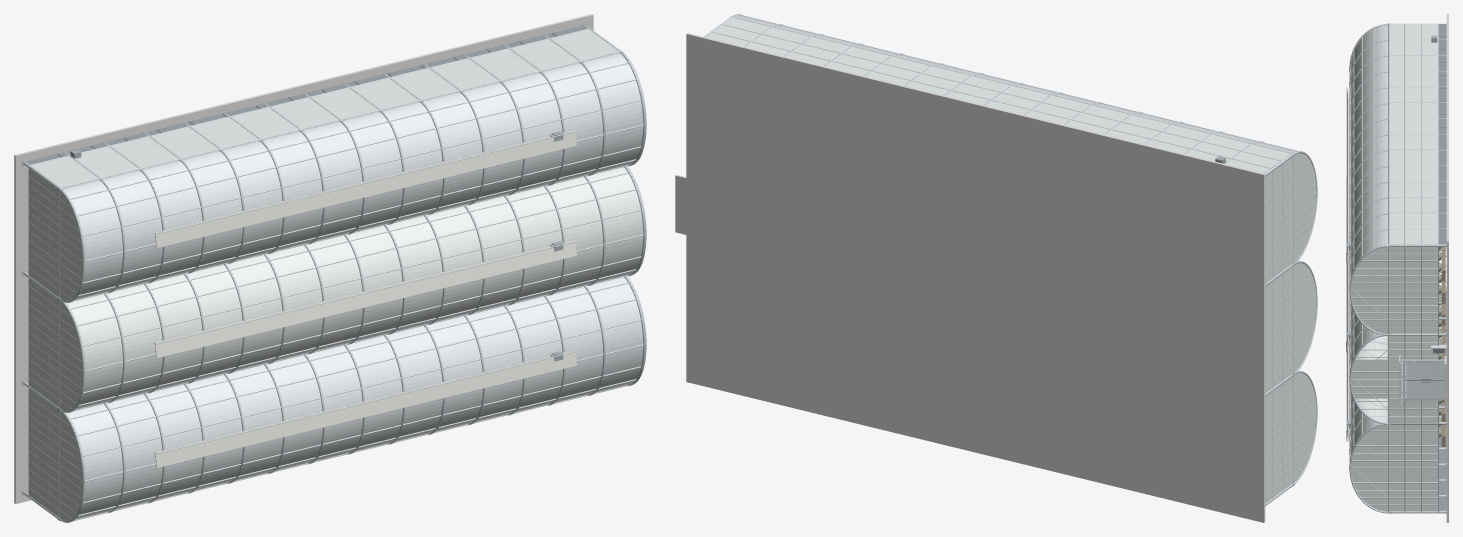
The model's file is greenhouse_shell_v9_1.glb.
3 views of the same model, side by side, from view 1: azimuth 30°, elevation 25°; view 2: azimuth 150°, elevation 25°; view 3: azimuth 270°, elevation 25° (orthographic). The views are drawn at different scales.
Visible parts, largest first — view 1: Roof_System/RoofPanel_Bay03_Continuous, Roof_System/RoofPanel_Bay01_Continuous, Roof_System/RoofPanel_Bay02_Continuous, Wall_System/SideWall_Far_PC, Foundation/Foundation_Slab, Roof_System/RoofVent_02_Panel, Roof_System/RoofVent_03_Panel, Roof_System/RoofVent_01_Panel, Wall_System/RearWall_Bay03_Continuous, Wall_System/RearWall_Bay01_Continuous, Wall_System/RearWall_Bay02_Continuous, Steel_Frame/Purlin_B02_05 (+22 smaller); view 2: Foundation/Foundation_Slab, Wall_System/SideWall_Far_PC, Wall_System/RearWall_Bay03_Continuous, Wall_System/RearWall_Bay01_Continuous, Wall_System/RearWall_Bay02_Continuous, Roof_System/RoofPanel_Bay03_Continuous, Steel_Frame/SideRail_Far_1.52, Steel_Frame/SideRail_Far_2.53, Steel_Frame/SideRail_Far_3.55, Steel_Frame/Purlin_B03_01; view 3: Wall_System/SideWall_Far_PC, Roof_System/RoofPanel_Bay03_Continuous, Wall_System/FrontWall_Bay01_Continuous, Wall_System/FrontWall_Bay03_Continuous, Wall_System/FrontWall_Center_Top, Roof_System/RoofPanel_Bay02_Continuous, Foundation/Foundation_Slab, Wall_System/FrontWall_Center_Left, Wall_System/FrontWall_Center_Right, Entrance_System/Entrance_Door_Left, Entrance_System/Entrance_Door_Right, Roof_System/RoofPanel_Bay01_Continuous (+39 smaller).
Boxes of the visible parts, x1=… form: Roof_System/RoofPanel_Bay03_Continuous: x1=63, y1=53, x2=643, y2=299; Roof_System/RoofPanel_Bay01_Continuous: x1=66, y1=277, x2=643, y2=519; Roof_System/RoofPanel_Bay02_Continuous: x1=66, y1=167, x2=643, y2=409; Wall_System/SideWall_Far_PC: x1=31, y1=29, x2=618, y2=187; Foundation/Foundation_Slab: x1=14, y1=14, x2=593, y2=503; Roof_System/RoofVent_02_Panel: x1=155, y1=240, x2=576, y2=357; Roof_System/RoofVent_03_Panel: x1=155, y1=130, x2=576, y2=248; Roof_System/RoofVent_01_Panel: x1=155, y1=350, x2=576, y2=467; Wall_System/RearWall_Bay03_Continuous: x1=29, y1=168, x2=82, y2=300; Wall_System/RearWall_Bay01_Continuous: x1=29, y1=388, x2=82, y2=520; Wall_System/RearWall_Bay02_Continuous: x1=29, y1=278, x2=82, y2=410; Steel_Frame/Purlin_B02_05: x1=83, y1=256, x2=641, y2=393; Foundation/Foundation_Slab: x1=686, y1=33, x2=1265, y2=522; Wall_System/SideWall_Far_PC: x1=706, y1=17, x2=1290, y2=173; Wall_System/RearWall_Bay03_Continuous: x1=1265, y1=153, x2=1316, y2=283; Wall_System/RearWall_Bay01_Continuous: x1=1265, y1=373, x2=1316, y2=503; Wall_System/RearWall_Bay02_Continuous: x1=1265, y1=263, x2=1316, y2=393; Roof_System/RoofPanel_Bay03_Continuous: x1=735, y1=15, x2=1295, y2=152; Steel_Frame/SideRail_Far_1.52: x1=712, y1=31, x2=1271, y2=168; Steel_Frame/SideRail_Far_2.53: x1=722, y1=24, x2=1281, y2=160; Steel_Frame/SideRail_Far_3.55: x1=732, y1=16, x2=1292, y2=153; Steel_Frame/Purlin_B03_01: x1=742, y1=15, x2=1297, y2=151; Wall_System/SideWall_Far_PC: x1=1389, y1=24, x2=1437, y2=244; Roof_System/RoofPanel_Bay03_Continuous: x1=1350, y1=25, x2=1387, y2=277; Wall_System/FrontWall_Bay01_Continuous: x1=1351, y1=424, x2=1437, y2=511; Wall_System/FrontWall_Bay03_Continuous: x1=1351, y1=247, x2=1437, y2=333; Wall_System/FrontWall_Center_Top: x1=1351, y1=359, x2=1401, y2=398; Roof_System/RoofPanel_Bay02_Continuous: x1=1350, y1=306, x2=1387, y2=422; Foundation/Foundation_Slab: x1=1446, y1=14, x2=1448, y2=522; Wall_System/FrontWall_Center_Left: x1=1389, y1=398, x2=1437, y2=423; Wall_System/FrontWall_Center_Right: x1=1389, y1=335, x2=1437, y2=359; Entrance_System/Entrance_Door_Left: x1=1406, y1=381, x2=1444, y2=398; Entrance_System/Entrance_Door_Right: x1=1406, y1=362, x2=1444, y2=379; Roof_System/RoofPanel_Bay01_Continuous: x1=1350, y1=395, x2=1379, y2=455.
Size of what is drawn, in the model's own units: 33.71 by 19.04 by 6.3.
